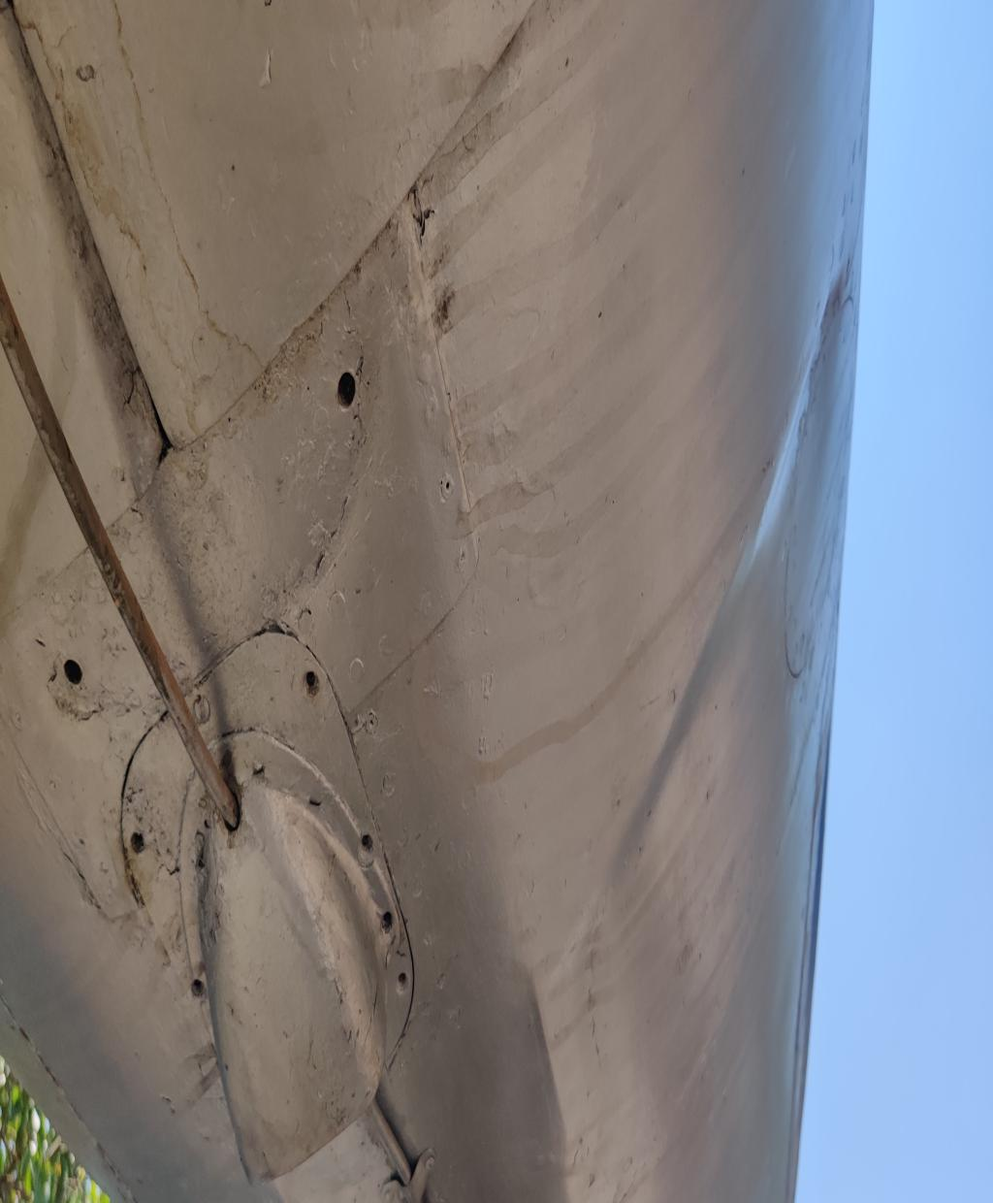corrosion: (114, 336, 144, 424), (405, 174, 434, 257), (191, 820, 212, 882)
dent: (708, 173, 862, 589), (521, 961, 584, 1180)
